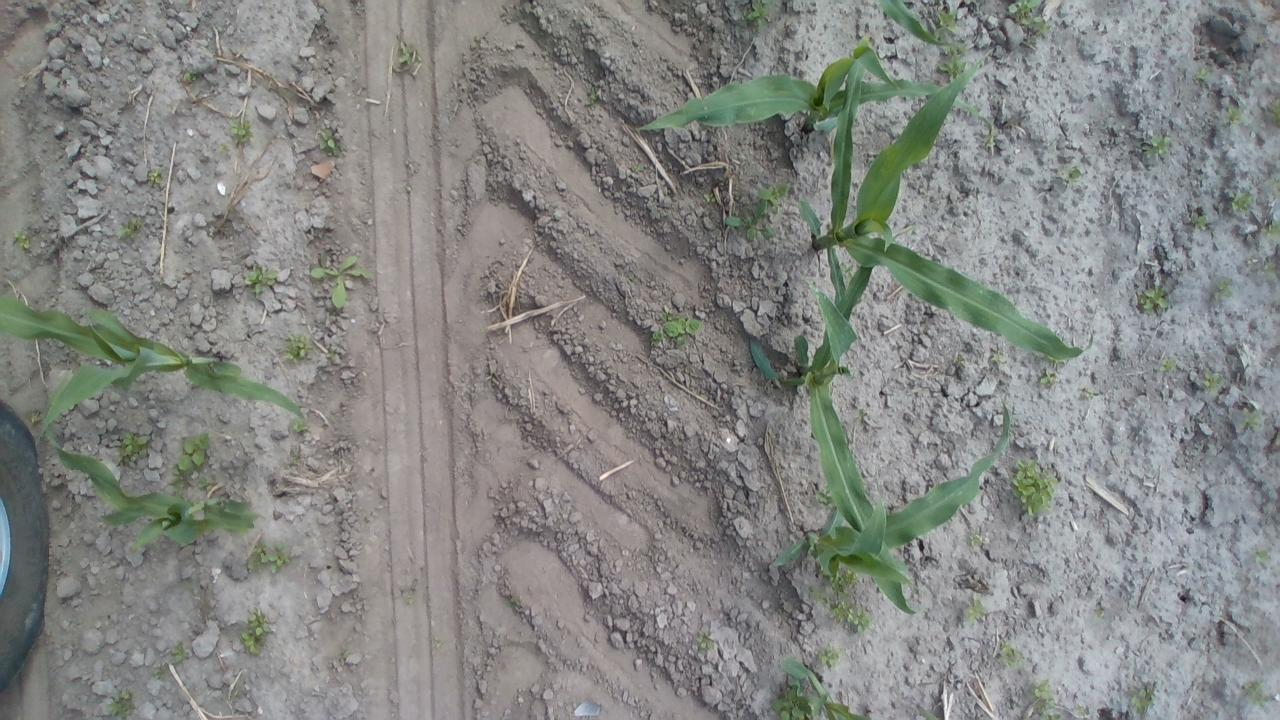Maize: (796, 56, 1094, 360), (747, 256, 927, 620), (0, 288, 304, 446), (774, 400, 1010, 586), (639, 50, 994, 145), (42, 416, 267, 554), (778, 650, 942, 720), (874, 0, 960, 50)
Weeds: (722, 182, 791, 241), (311, 253, 372, 310), (1010, 454, 1060, 518), (167, 432, 214, 498), (650, 303, 704, 348), (828, 594, 872, 633), (1006, 0, 1052, 35), (240, 605, 271, 656), (247, 539, 289, 573), (936, 46, 973, 84), (771, 687, 812, 720), (1031, 677, 1062, 720), (740, 0, 780, 32), (114, 432, 150, 466), (242, 263, 280, 295), (103, 687, 136, 720), (227, 110, 256, 144), (813, 643, 842, 672), (1138, 286, 1168, 314), (996, 639, 1024, 668), (1126, 685, 1154, 714), (962, 592, 986, 625), (286, 334, 314, 362), (830, 567, 859, 594), (1246, 680, 1272, 709), (934, 6, 961, 33), (116, 216, 145, 241), (1201, 369, 1225, 399), (318, 128, 341, 156), (1230, 190, 1256, 214), (1144, 133, 1170, 156), (170, 640, 192, 665), (1214, 277, 1234, 303), (1058, 164, 1082, 185), (1236, 413, 1261, 432), (1223, 106, 1243, 129), (13, 227, 32, 250), (697, 630, 716, 650), (398, 40, 413, 65), (584, 86, 600, 109), (812, 488, 833, 505), (968, 528, 987, 546), (1038, 368, 1058, 385), (176, 70, 197, 86), (814, 589, 831, 608), (1250, 548, 1272, 562), (144, 167, 162, 184), (1159, 357, 1177, 374), (290, 414, 306, 433), (1261, 223, 1280, 239), (1191, 215, 1208, 232), (22, 406, 40, 422), (1072, 702, 1088, 720), (1269, 98, 1280, 124), (856, 35, 874, 49), (1193, 68, 1210, 82), (625, 270, 638, 288), (1264, 260, 1280, 274), (177, 576, 193, 590), (507, 594, 522, 608), (990, 350, 1004, 364), (334, 652, 348, 666), (854, 406, 864, 424), (1081, 384, 1094, 397), (1271, 176, 1280, 194), (630, 160, 642, 173), (1092, 607, 1104, 620), (215, 143, 231, 152), (952, 354, 964, 366), (432, 635, 443, 648), (702, 192, 716, 202), (406, 593, 416, 606), (326, 351, 338, 361), (1247, 256, 1259, 266), (154, 667, 162, 680), (160, 281, 167, 289)
